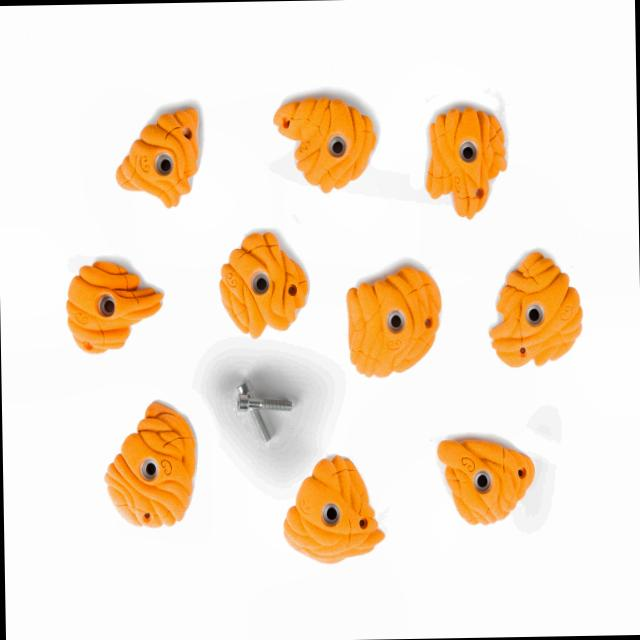Hold: (90, 391, 208, 529), (484, 252, 594, 370), (214, 220, 310, 348), (110, 100, 210, 210), (282, 456, 388, 558), (268, 96, 374, 196), (342, 275, 439, 380), (431, 436, 532, 532), (421, 112, 508, 219), (70, 260, 165, 357)
